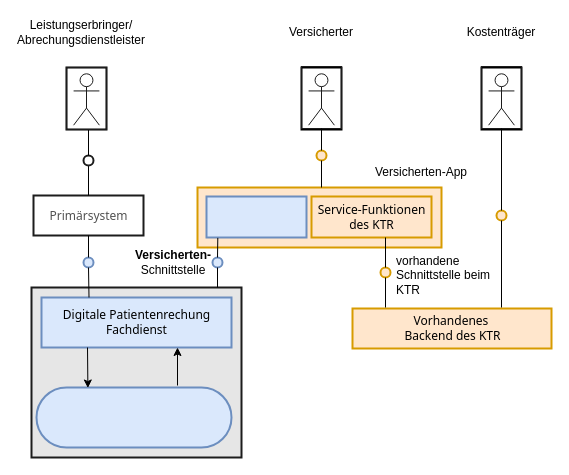
This 569x475 diagram has some shape labels left out. The centre of each missing label's shape, as x and y in pixels:
"FdV" goes at (x=256, y=216).
"Rechnungen/Dokumente (PDF+Daten)" goes at (x=133, y=417).
